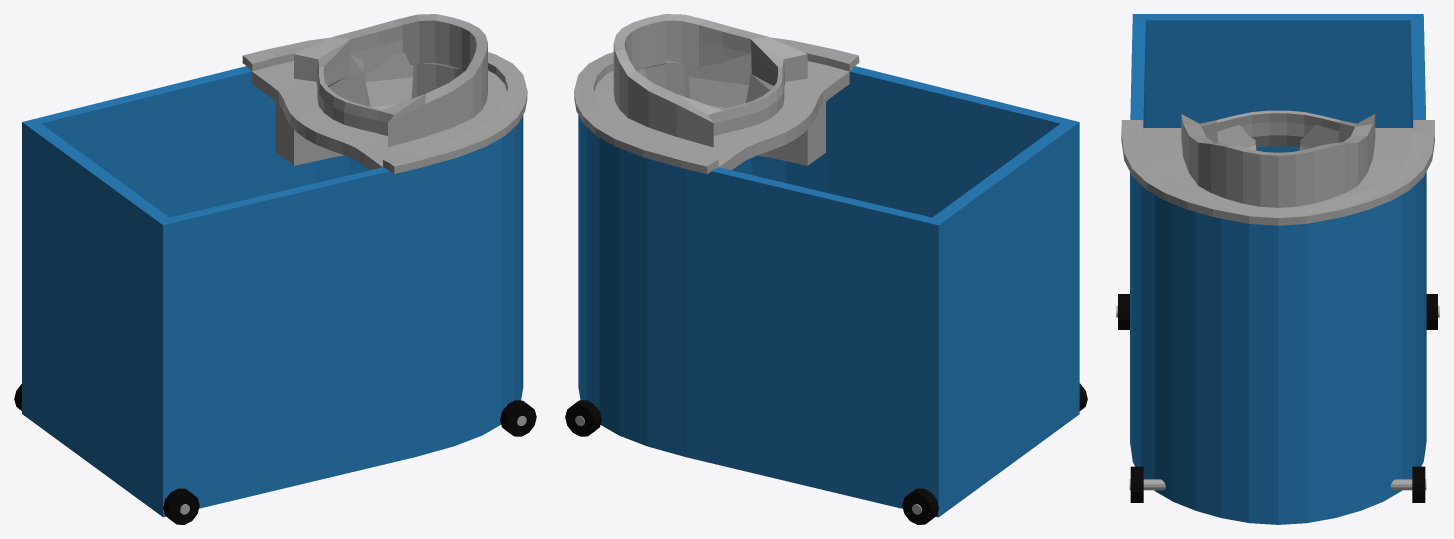
File: MopBucket.fbx
The picture shows the model from 3 angles, left to right: view 1: azimuth 30°, elevation 25°; view 2: azimuth 150°, elevation 25°; view 3: azimuth 270°, elevation 25°; orthographic projection. The views are drawn at different scales.
Parts seen in each view (by area): view 1: MopBucket, WheelFR, WheelBR; view 2: MopBucket, WheelFL, WheelBL; view 3: MopBucket, WheelFR, WheelFL, WheelBR, WheelBL.
Part boxes in pixels (bbox=[...]): MopBucket: bbox=[22, 14, 527, 517]; WheelFR: bbox=[500, 400, 536, 436]; WheelBR: bbox=[163, 488, 199, 524]; MopBucket: bbox=[574, 14, 1079, 517]; WheelFL: bbox=[565, 400, 601, 436]; WheelBL: bbox=[902, 488, 938, 524]; MopBucket: bbox=[1121, 14, 1434, 524]; WheelFR: bbox=[1130, 466, 1143, 502]; WheelFL: bbox=[1412, 466, 1425, 502]; WheelBR: bbox=[1118, 294, 1129, 329]; WheelBL: bbox=[1426, 294, 1437, 329].
Size of the model in its own units: 88.41 by 69.99 by 56.96.
